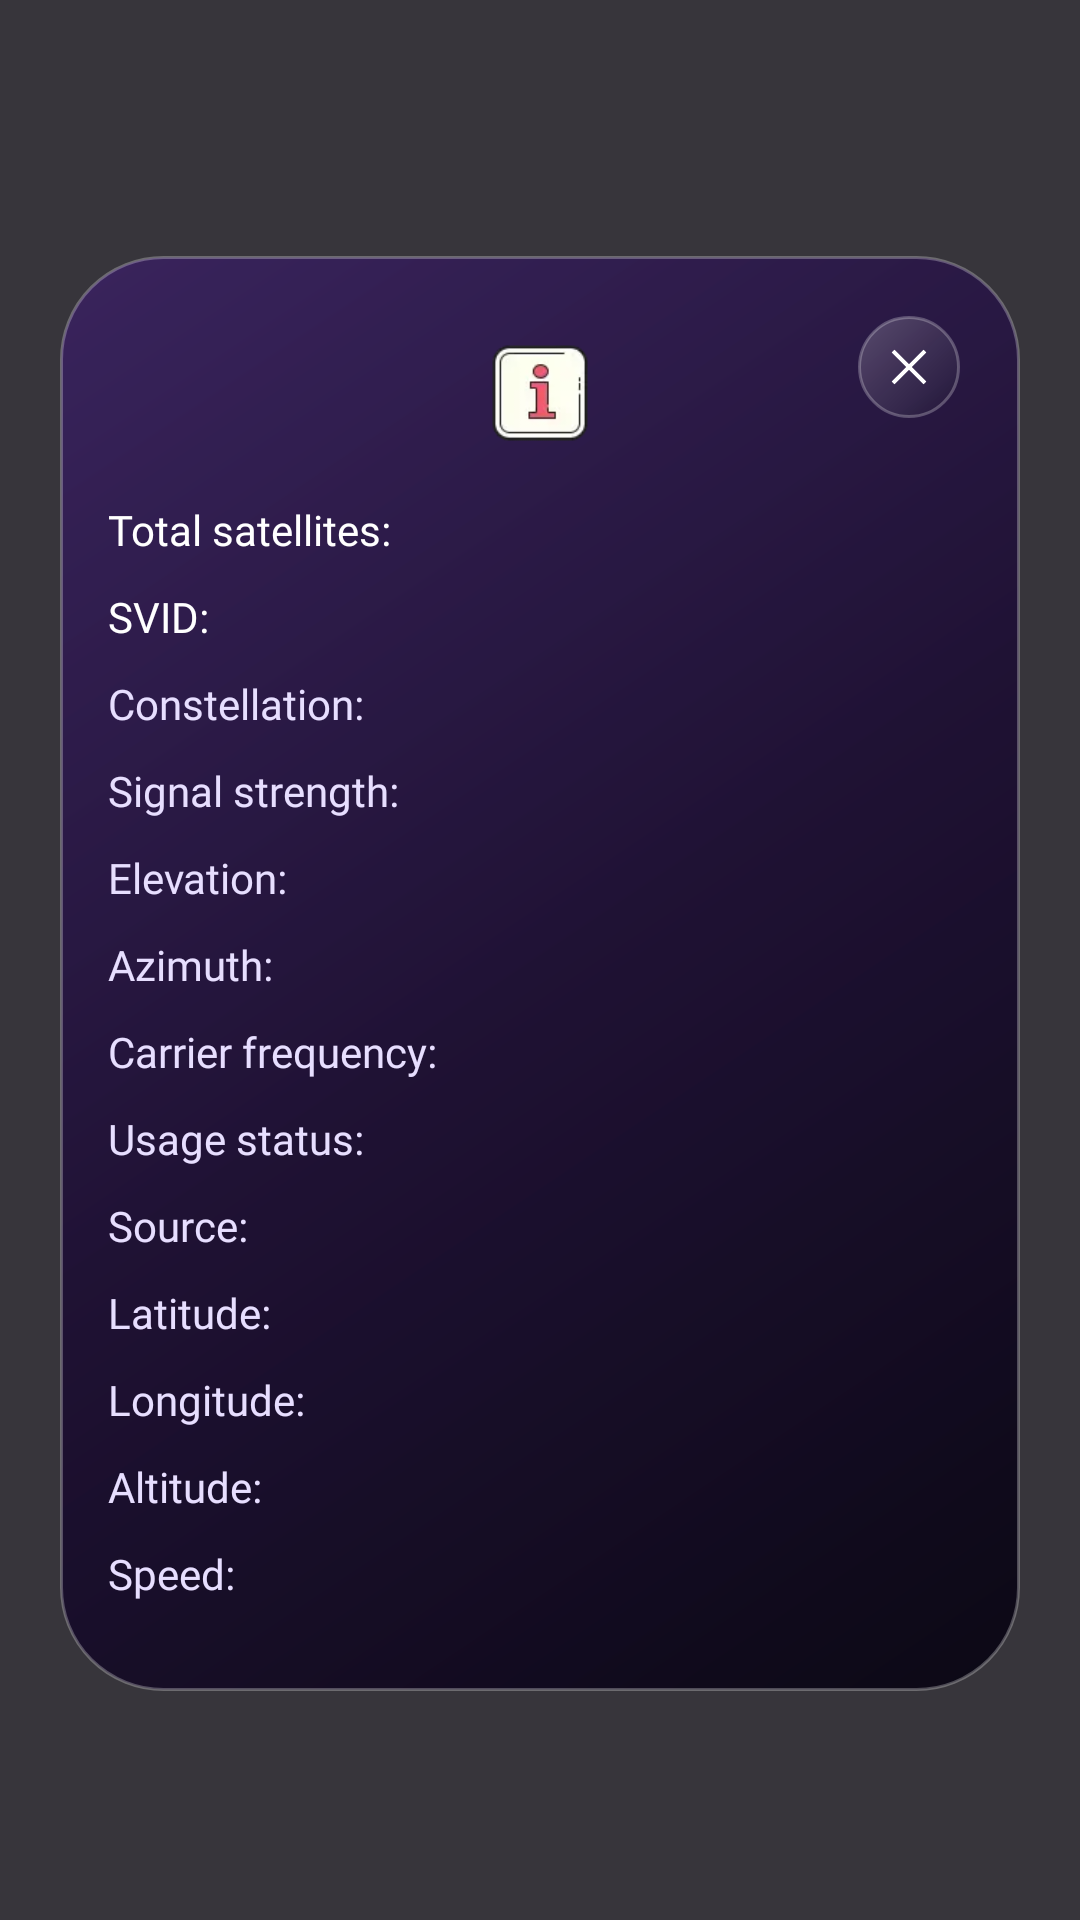

Screen size 1080 x 1920. Icon name, then its center in pixels as (x,y):
close: (909,367)
information: (540,393)
